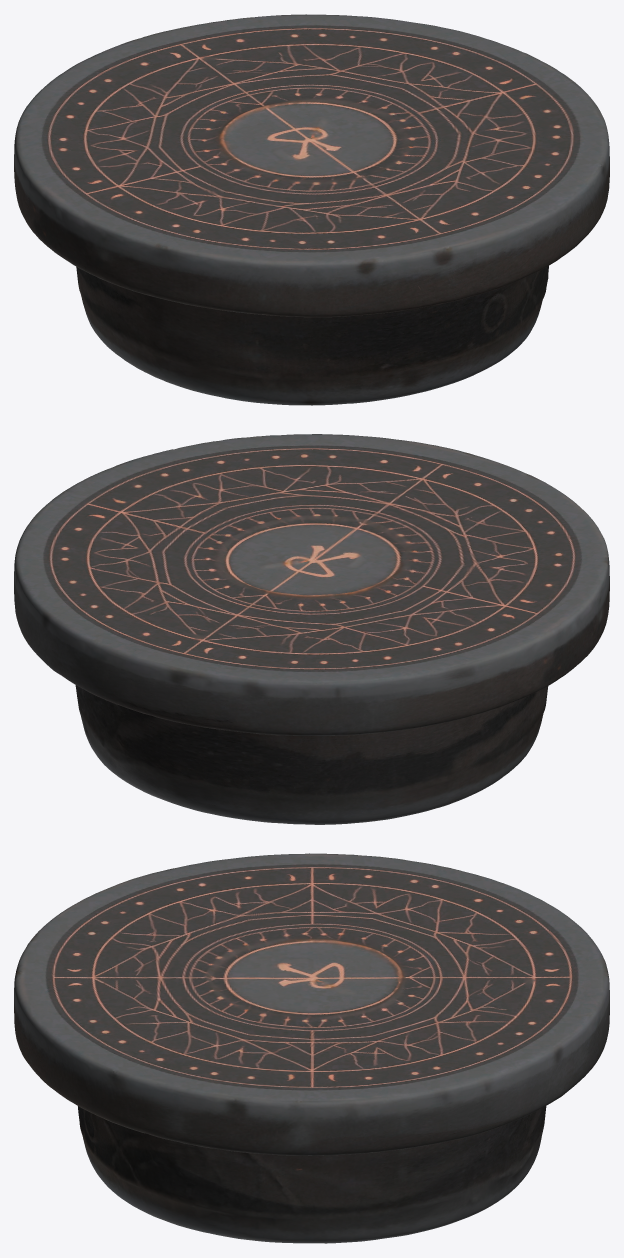
File: ritual_circle_large.glb
3 renders of one model, top to bottom at view 1: azimuth 30°, elevation 25°; view 2: azimuth 150°, elevation 25°; view 3: azimuth 270°, elevation 25°, orthographic.
Size of the model in its own units: 2 by 0.6517 by 2.
Materials: 1 (1 with a texture image).
